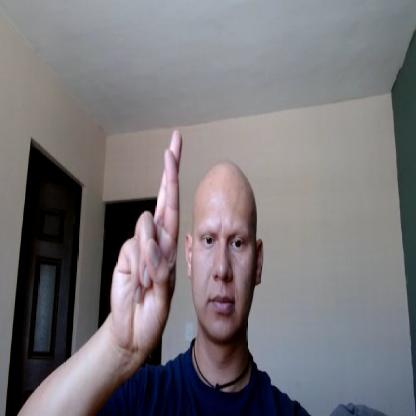R: (111, 129, 184, 354)
